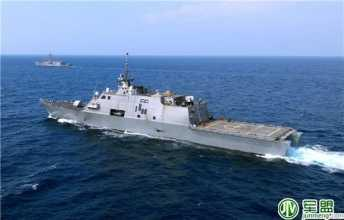warship: (38, 70, 303, 162), (34, 53, 72, 68)
